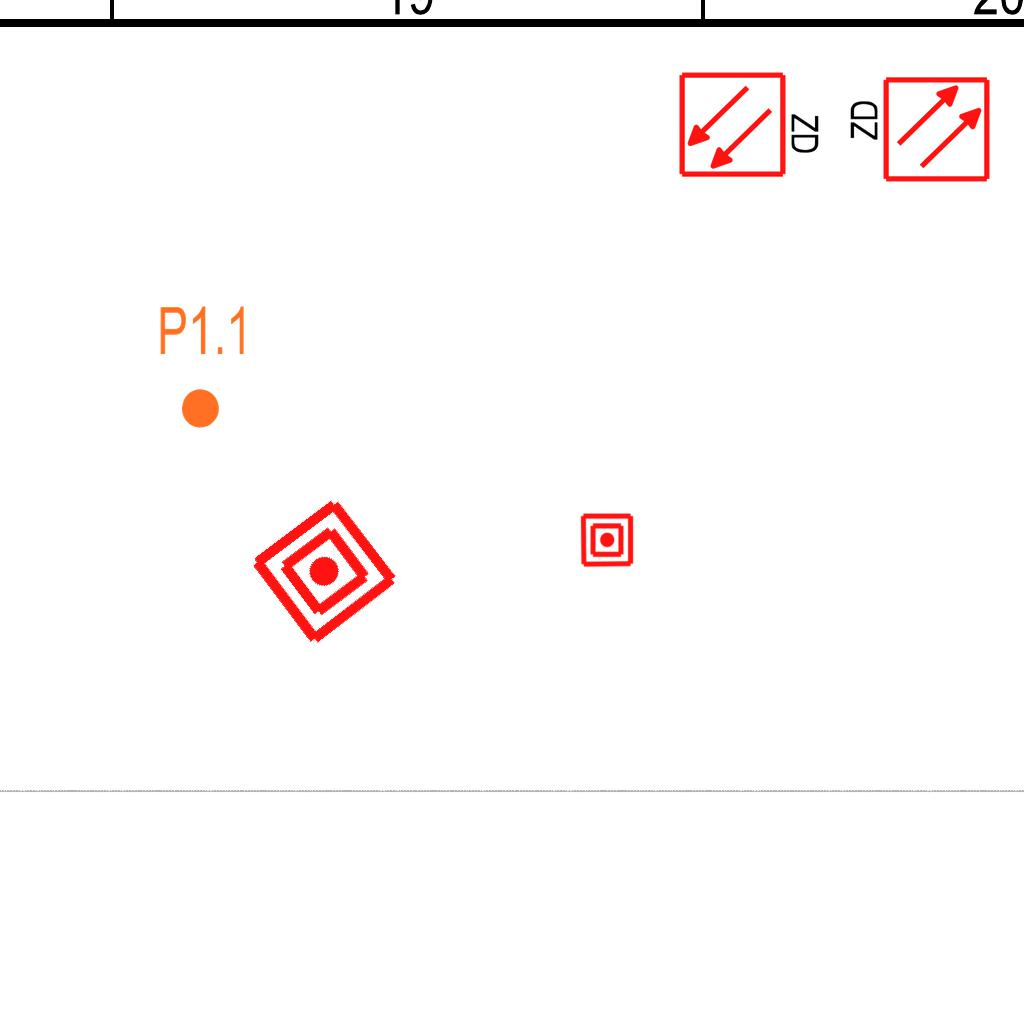Downlight_LED_Einbauleuchten_Flur: (157, 303, 250, 431)
NAM-Nichtautomatischer_Melder: (245, 492, 404, 651), (579, 512, 635, 568)
ZD_Melder_in_Zwischendecke_mit_Revisionsoeffnung_mind_40_x_40_cm: (843, 74, 992, 188), (677, 66, 826, 180)
